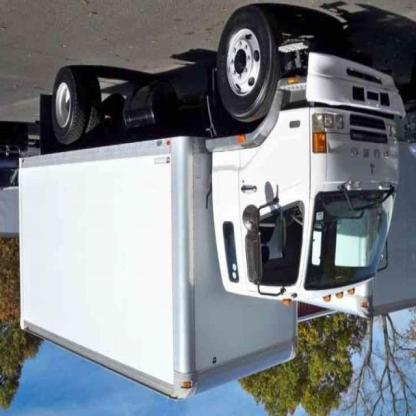truck: (21, 11, 407, 401)
